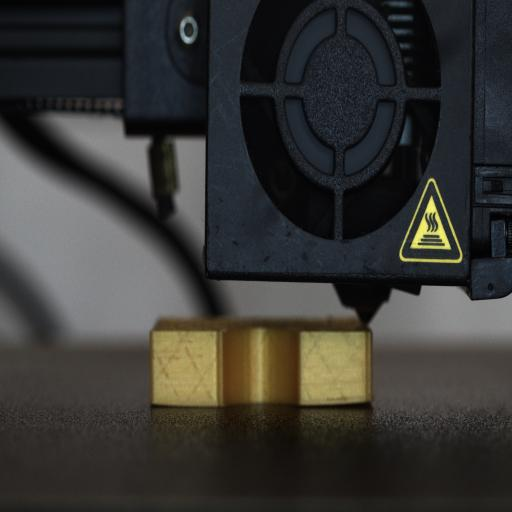warp: (328, 393, 376, 412)
